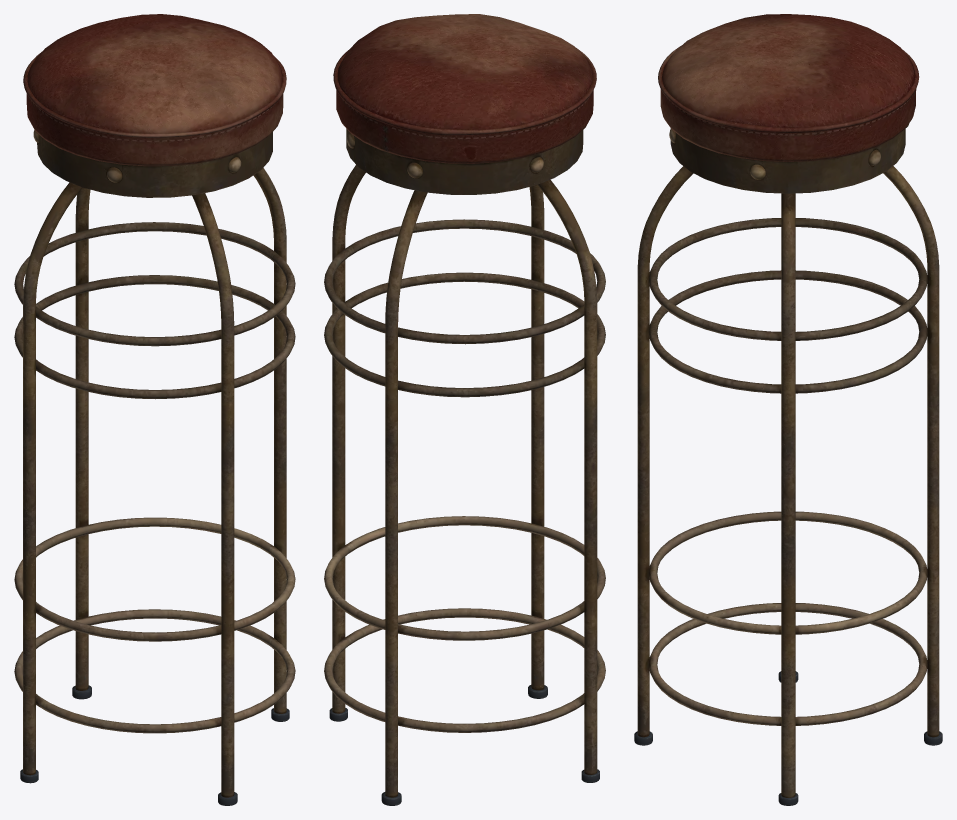
File: metal_stool_01.glb
3 views of the same model, side by side, from view 1: azimuth 30°, elevation 25°; view 2: azimuth 150°, elevation 25°; view 3: azimuth 270°, elevation 25° (orthographic).
Visible parts, largest first — view 1: metal_stool_01; view 2: metal_stool_01; view 3: metal_stool_01.
Part boxes in pixels (x1,y1,x2,y2): metal_stool_01: (14,14,295,805); metal_stool_01: (324,14,605,805); metal_stool_01: (634,14,942,805).
Size of the model in its own units: 0.352 by 0.8828 by 0.3546.
1 material, 1 textured.
